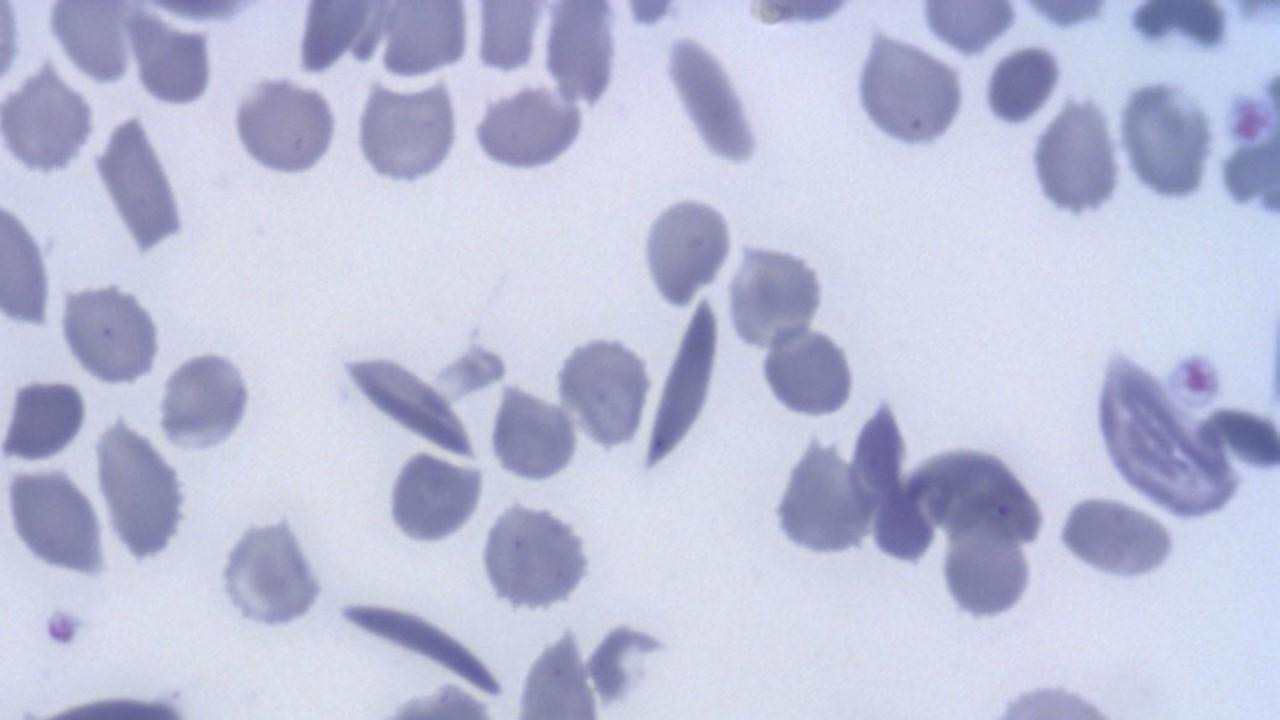Platelets: (155, 348, 268, 456), (584, 617, 672, 707), (1123, 1, 1187, 49), (37, 602, 90, 652), (618, 0, 680, 27)
RBC: (1083, 338, 1263, 525), (768, 430, 876, 560), (852, 36, 970, 151), (1115, 76, 1217, 205), (1030, 91, 1126, 221), (1050, 490, 1182, 584), (352, 75, 460, 188), (3, 461, 106, 579), (230, 72, 342, 178), (636, 193, 736, 311), (56, 280, 165, 387), (555, 332, 653, 450), (469, 82, 586, 174), (756, 322, 860, 421), (487, 382, 580, 487), (540, 2, 622, 108), (512, 623, 600, 719), (131, 10, 216, 109), (45, 0, 137, 88), (2, 374, 90, 462), (2, 191, 55, 333), (375, 1, 472, 77), (980, 42, 1061, 126), (916, 0, 1020, 57), (472, 1, 543, 76), (1008, 0, 1118, 31), (0, 0, 24, 96)
WBC: (263, 0, 1280, 720), (616, 180, 748, 320), (640, 290, 724, 480), (92, 413, 194, 567), (91, 109, 194, 255), (474, 497, 600, 616), (214, 510, 331, 632), (765, 434, 875, 560), (349, 76, 468, 191), (1115, 79, 1221, 208), (852, 34, 968, 150), (227, 70, 348, 179), (1050, 490, 1182, 586), (1028, 95, 1126, 223), (56, 276, 168, 387), (1, 465, 109, 580), (154, 342, 261, 455), (1216, 51, 1280, 236), (2, 58, 98, 174), (380, 448, 486, 547), (756, 322, 862, 421), (468, 85, 586, 172), (43, 2, 138, 87), (917, 0, 1020, 52), (1006, 0, 1117, 31)
